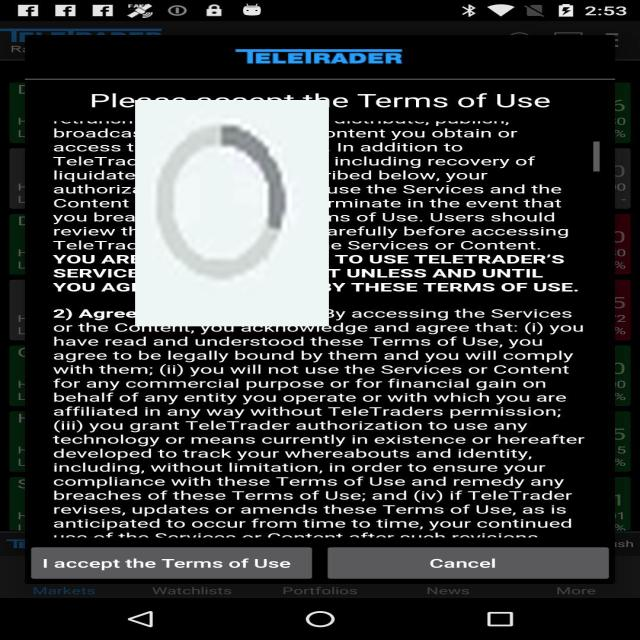misdirection: (135, 100, 329, 326)
